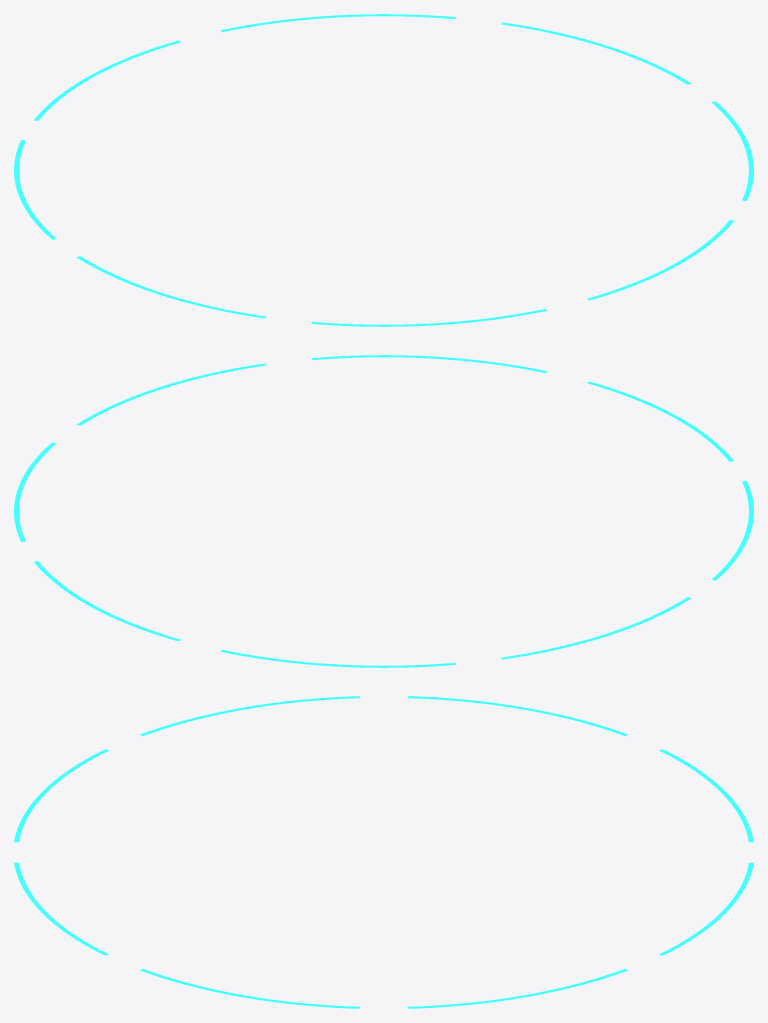
Rendered from SM_RemoteBase_Ring.fbx.
The picture shows the model from 3 angles, top to bottom: view 1: azimuth 30°, elevation 25°; view 2: azimuth 150°, elevation 25°; view 3: azimuth 270°, elevation 25°; orthographic projection.
Visible parts, largest first — view 1: SM_RemoteBase_Ring; view 2: SM_RemoteBase_Ring; view 3: SM_RemoteBase_Ring.
Part boxes in pixels (box(x1,y1,x2,y2)): SM_RemoteBase_Ring: box(14, 14, 753, 326); SM_RemoteBase_Ring: box(14, 355, 753, 667); SM_RemoteBase_Ring: box(14, 696, 753, 1008).
Size of the model in its own units: 512 by 512 by 0.
